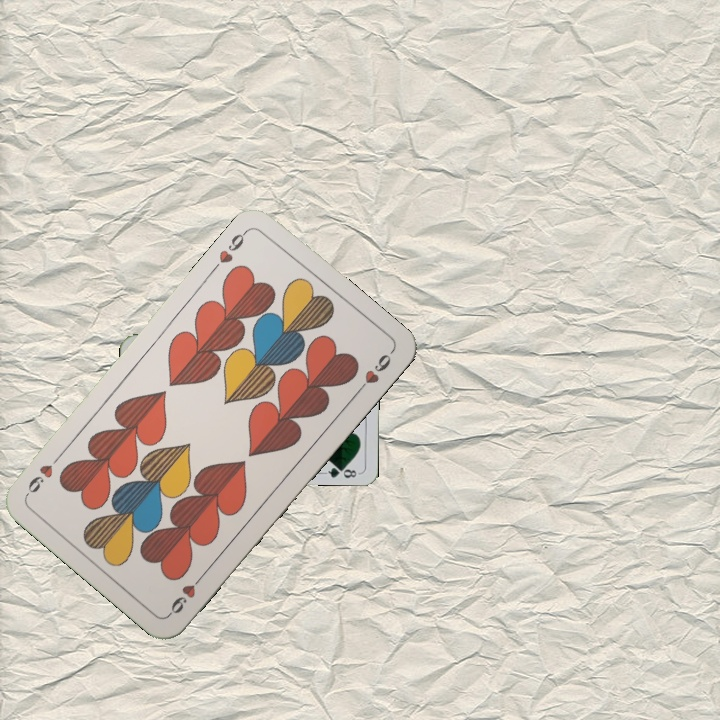H9: (164, 569, 208, 618), (214, 225, 251, 266)
